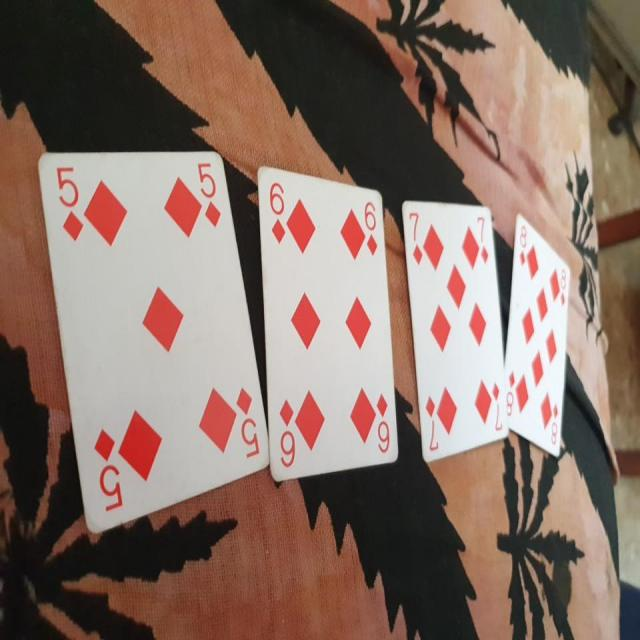5 Diamonds: (34, 149, 271, 530)
6 Diamonds: (256, 165, 402, 482)
7 Diamonds: (400, 198, 509, 463)
8 Diamonds: (505, 213, 573, 458)
